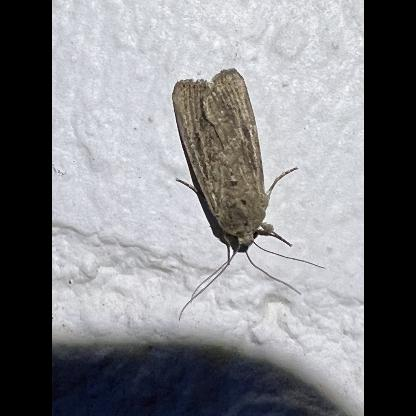Fall Armyworm Moth: (170, 66, 328, 322)
